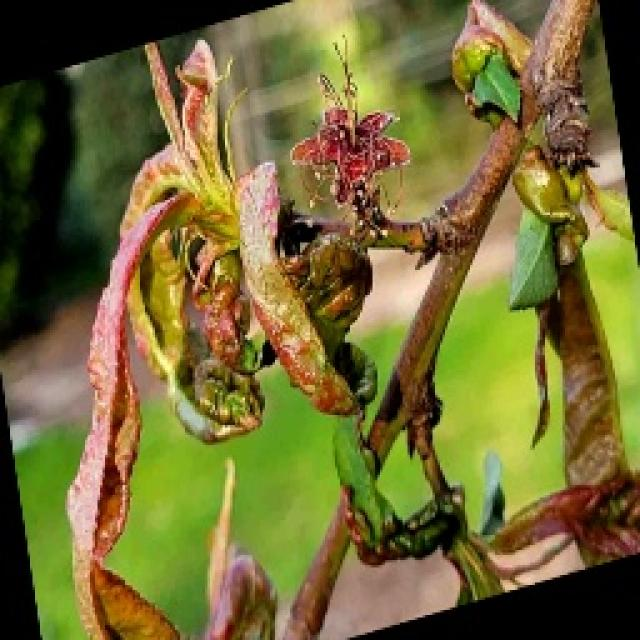peach_leaf_curl: (66, 79, 310, 577), (288, 32, 412, 208)
